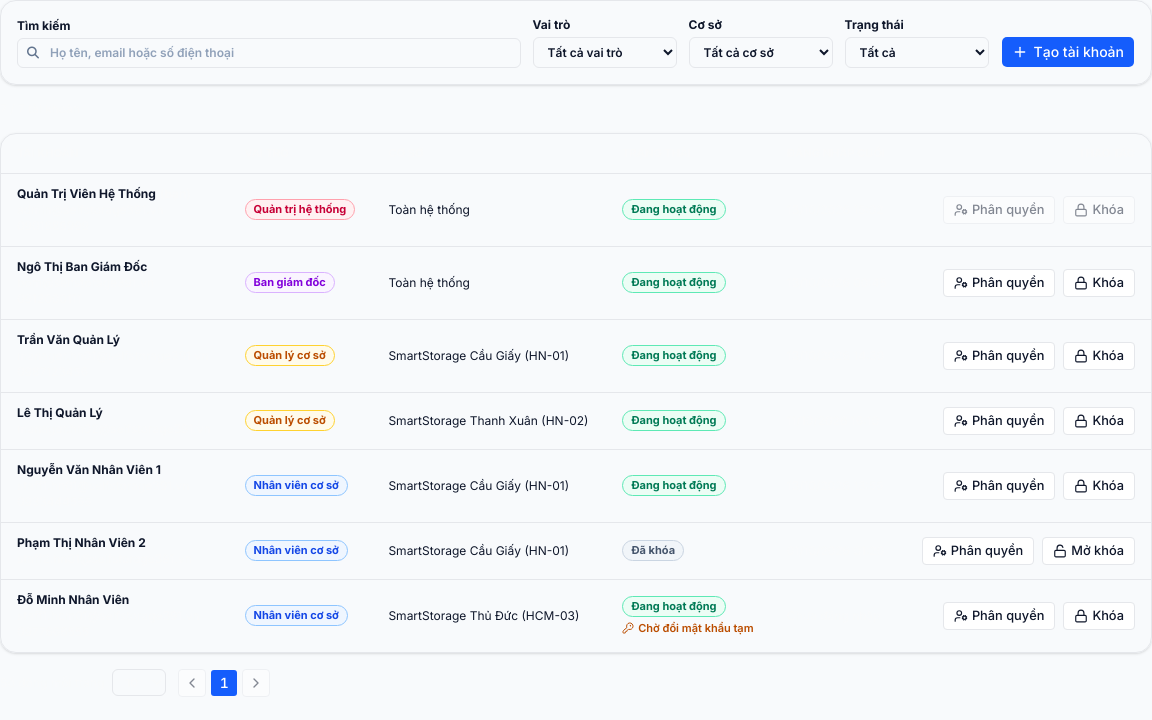
AccountsPanel: Admin quản lý tài khoản nội bộ (US-29) › tạo Staff mà không gán cơ sở → bị chặn, không tạo
Expected: the text "staff1.hn01@selfstorage391.vn" is shown, [17,478,212,494]
Click the button "Tạo tài khoản": (1068, 52) [1001,36,1135,68]
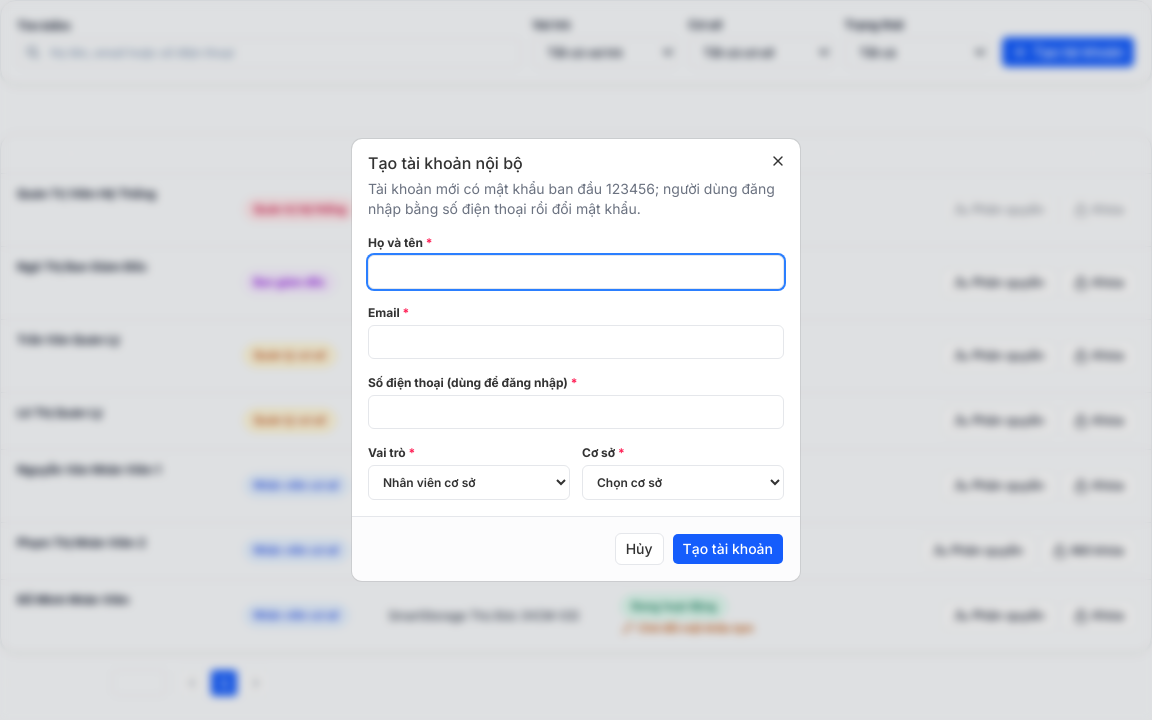
In the field labelled "Họ và tên *": (576, 272) [368,255,784,289], type "Nguyễn Văn Mới"
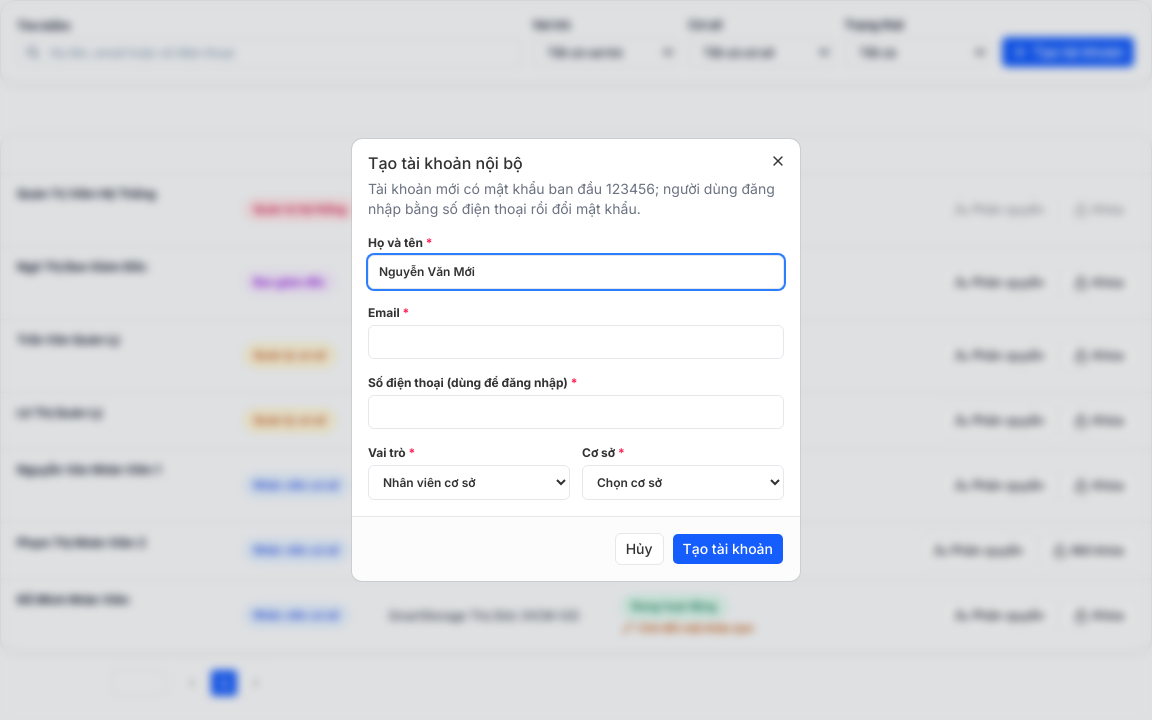
In the field labelled "Email *": (576, 342) [368,325,784,359], type "nv.moi@selfstorage391.vn"
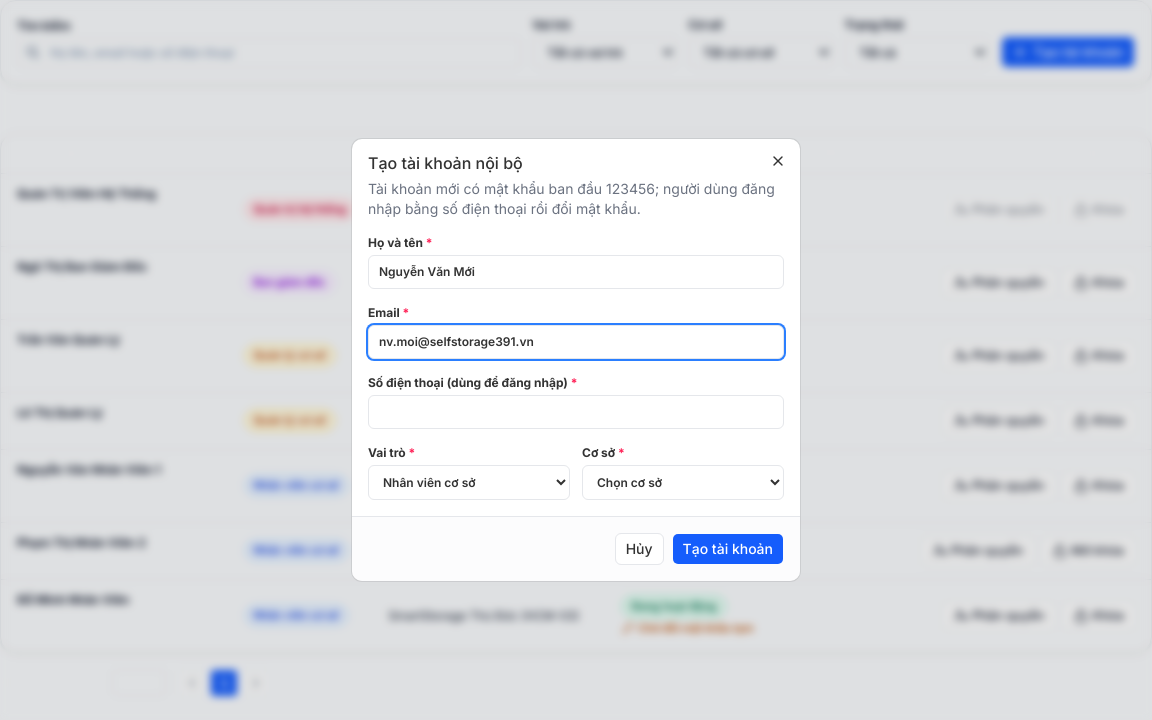
Click the button "Tạo tài khoản": (728, 549) [672,533,784,565]
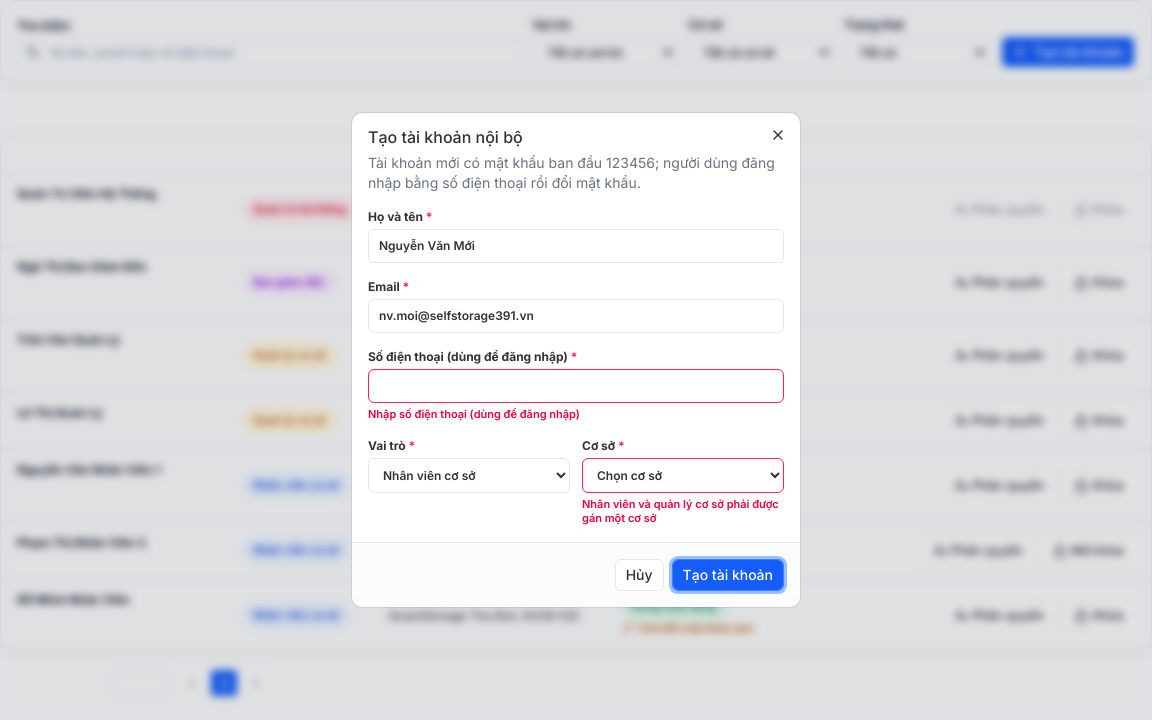
Expected: the text "Nhân viên và quản lý cơ sở phải được gán một cơ sở" is shown, [582,497,784,526]
